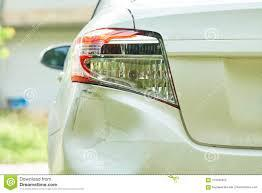rear-bumper-dent: (30, 83, 261, 176)
